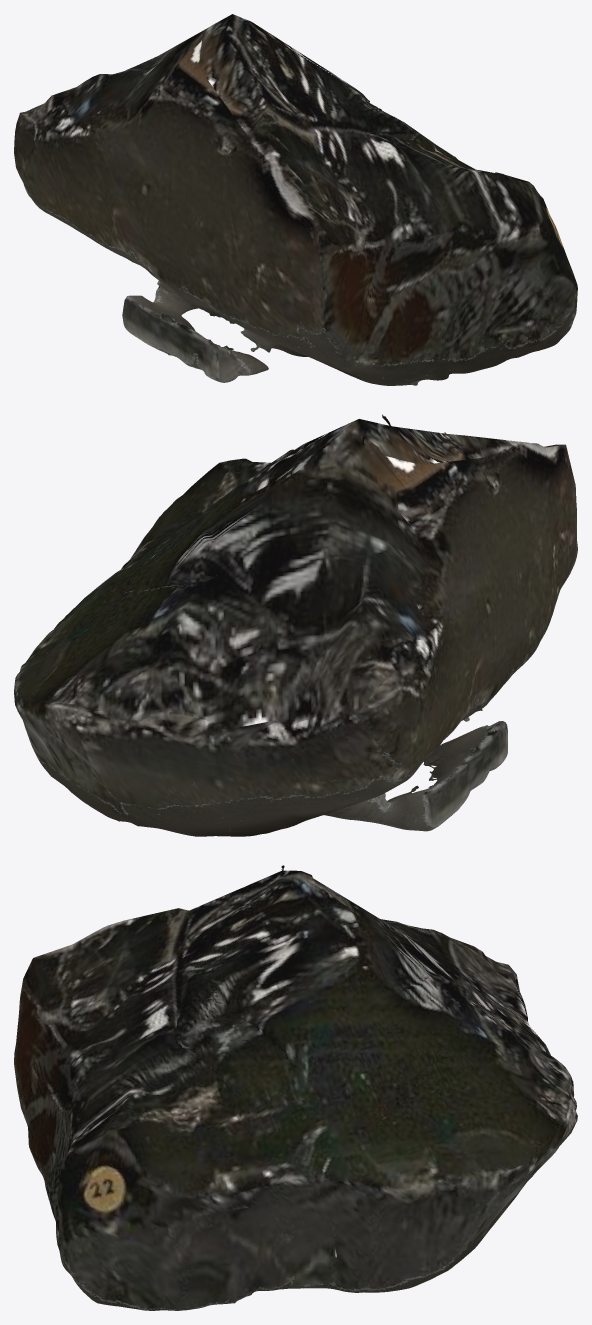
The model's file is obsidian.glb.
3 renders of one model, top to bottom at view 1: azimuth 30°, elevation 25°; view 2: azimuth 150°, elevation 25°; view 3: azimuth 270°, elevation 25°, orthographic. The views are drawn at different scales.
Visible parts, largest first — view 1: Object_2; view 2: Object_2; view 3: Object_2.
Boxes of the visible parts, bbox=[...] form: Object_2: bbox=[14, 14, 577, 385]; Object_2: bbox=[14, 414, 577, 836]; Object_2: bbox=[14, 865, 577, 1310].
Bounding box in the file's own units: 0.0781 × 0.0633 × 0.1.
Materials: 1 (1 with a texture image).
